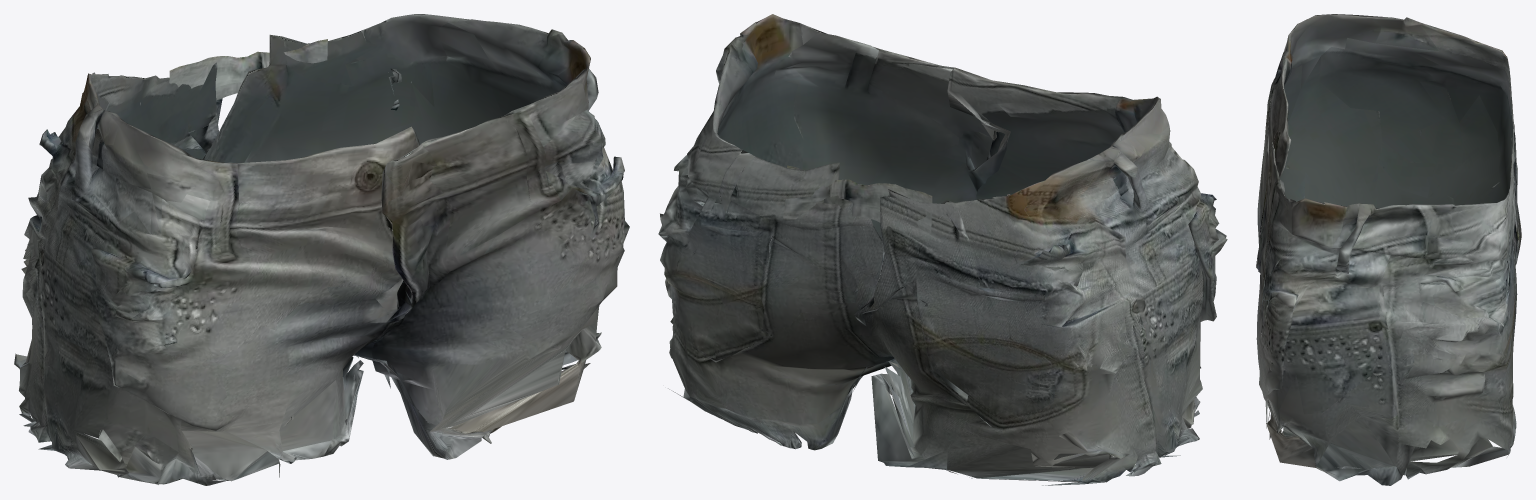
The picture shows the model from 3 angles, left to right: view 1: azimuth 30°, elevation 25°; view 2: azimuth 150°, elevation 25°; view 3: azimuth 270°, elevation 25°; orthographic projection. The views are drawn at different scales.
Visible parts, largest first — view 1: Roupa_008, Rear waist repair; view 2: Roupa_008, Rear waist repair; view 3: Roupa_008.
Boxes of the visible parts, left/top/right/bottom form: Roupa_008: left=14, top=14, right=629, bottom=485; Rear waist repair: left=169, top=39, right=327, bottom=100; Roupa_008: left=658, top=14, right=1227, bottom=485; Rear waist repair: left=783, top=165, right=932, bottom=233; Roupa_008: left=1256, top=14, right=1521, bottom=485.
Size of the model in its own units: 0.3706 by 0.2431 by 0.1915.
2 materials, 2 textured.
